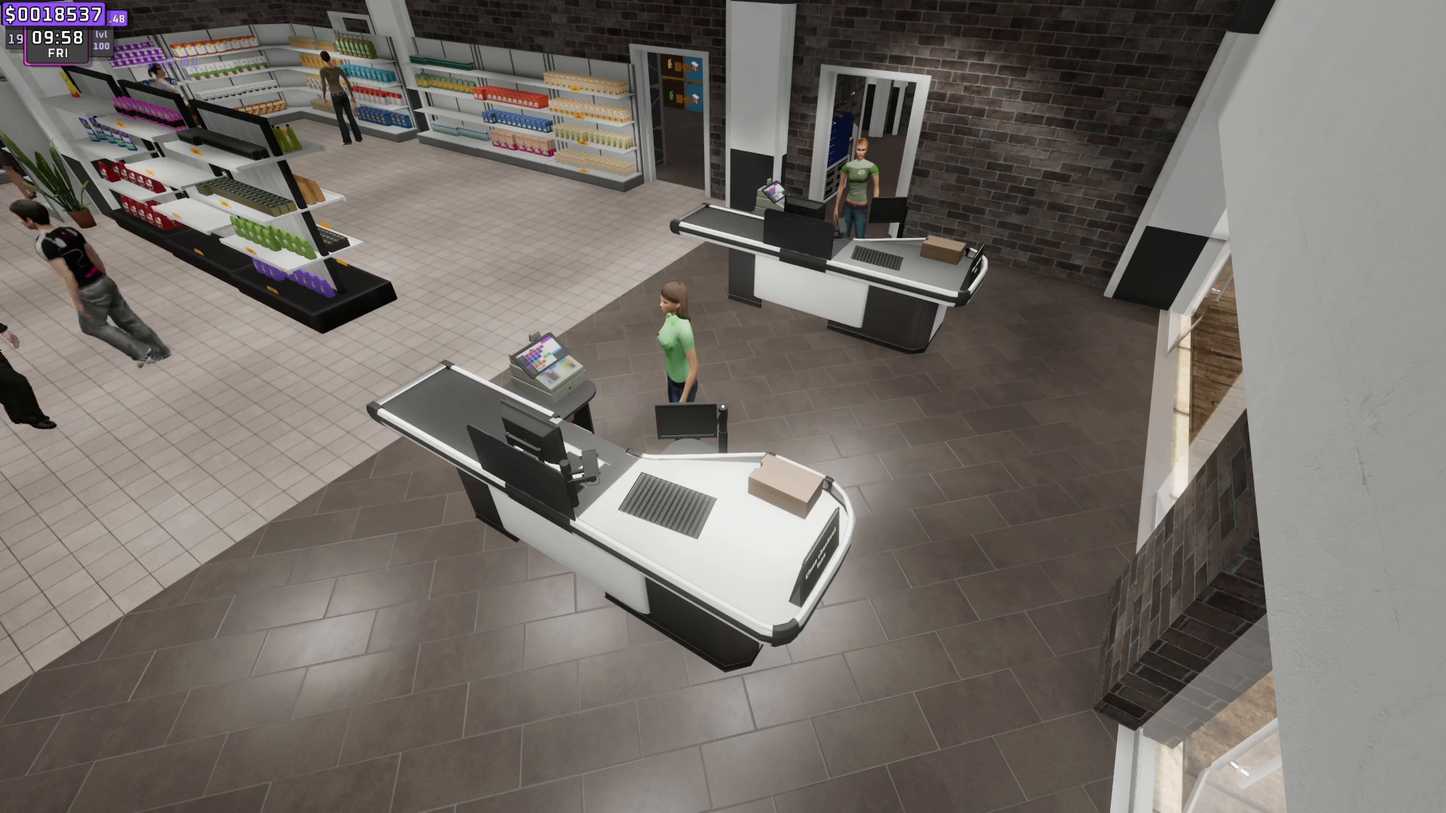Employee: (655, 283, 710, 402), (846, 136, 878, 231)
